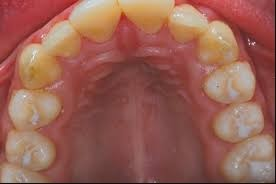UL1BC_decay: (205, 61, 256, 104)
UL1M_healthy: (220, 137, 276, 184)
UL2BC_healthy: (217, 102, 266, 139)
ULCI_healthy: (123, 1, 172, 35)
ULC_healthy: (201, 24, 240, 66)
ULLI_healthy: (171, 5, 207, 43)
UR1BC_decay: (8, 89, 63, 131)
UR2BC_decay: (5, 133, 56, 169)
URCI_healthy: (75, 1, 122, 40)
URC_healthy: (20, 45, 65, 88)
URLI_healthy: (44, 22, 80, 55)
